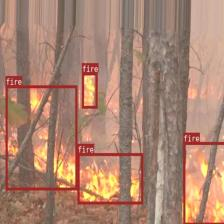fire: (5, 85, 77, 190), (182, 142, 224, 224), (77, 153, 142, 204), (81, 72, 97, 108)
